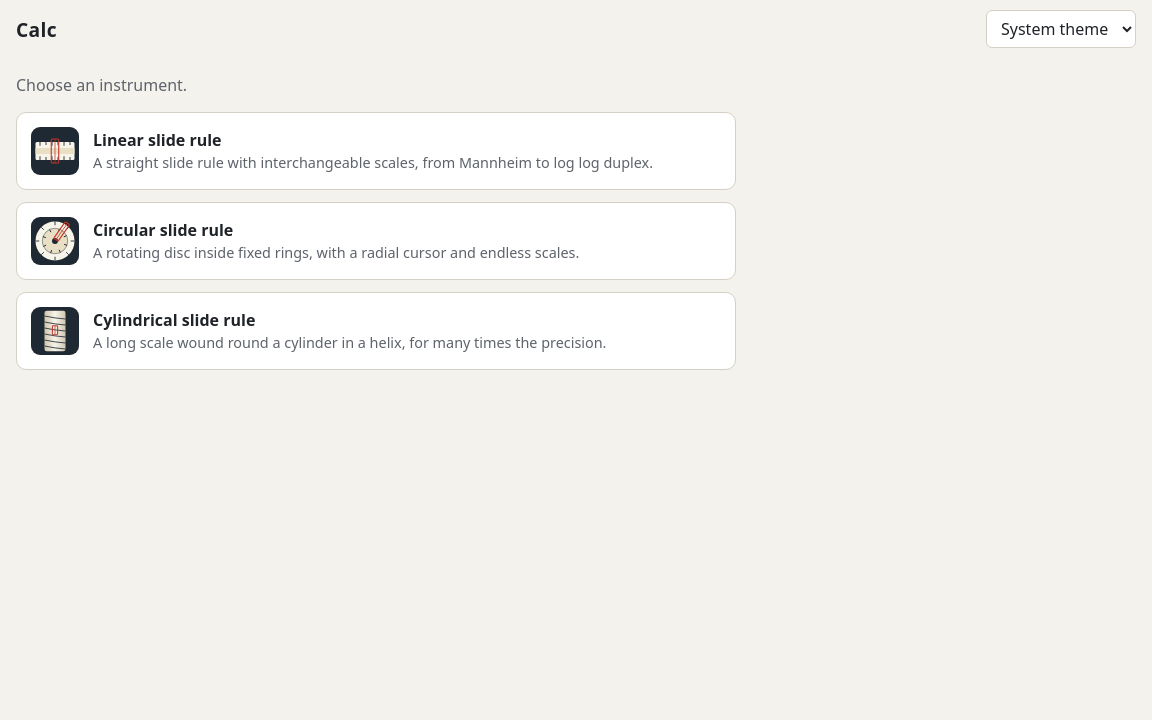
the home page links to the circular slide rule, which opens on Basic
Click the link "Circular slide rule": (376, 241) [16, 202, 736, 280]
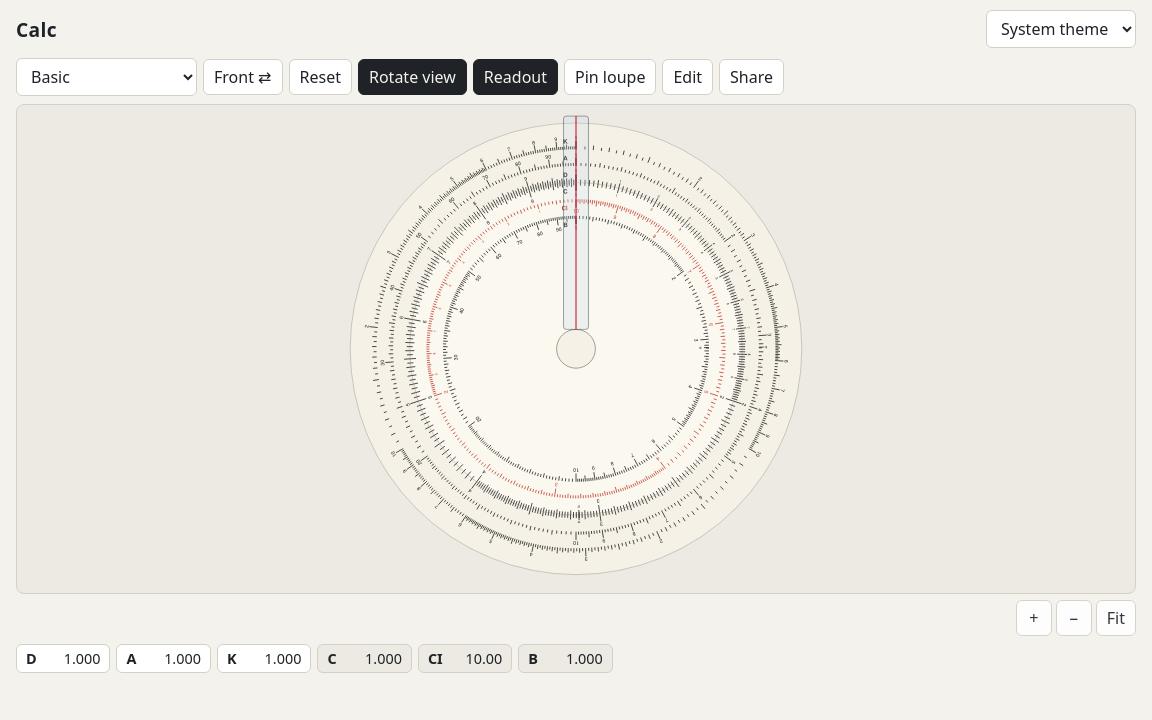
Expected: the icon named "Basic circular slide rule, front face" is shown
